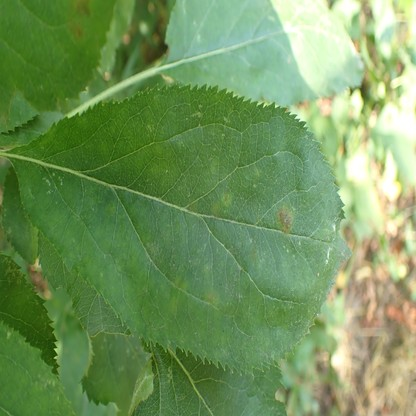scab: (274, 205, 295, 234), (1, 258, 23, 285), (43, 172, 65, 194), (72, 0, 91, 18), (67, 16, 83, 36), (204, 290, 219, 307), (248, 244, 259, 267), (192, 102, 203, 116), (222, 194, 233, 208), (211, 203, 222, 217), (173, 278, 187, 288), (166, 366, 172, 385), (253, 168, 263, 179), (147, 122, 154, 134), (223, 115, 230, 124)
